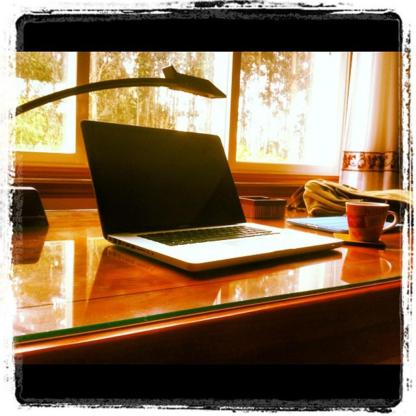board: (80, 115, 342, 276)
